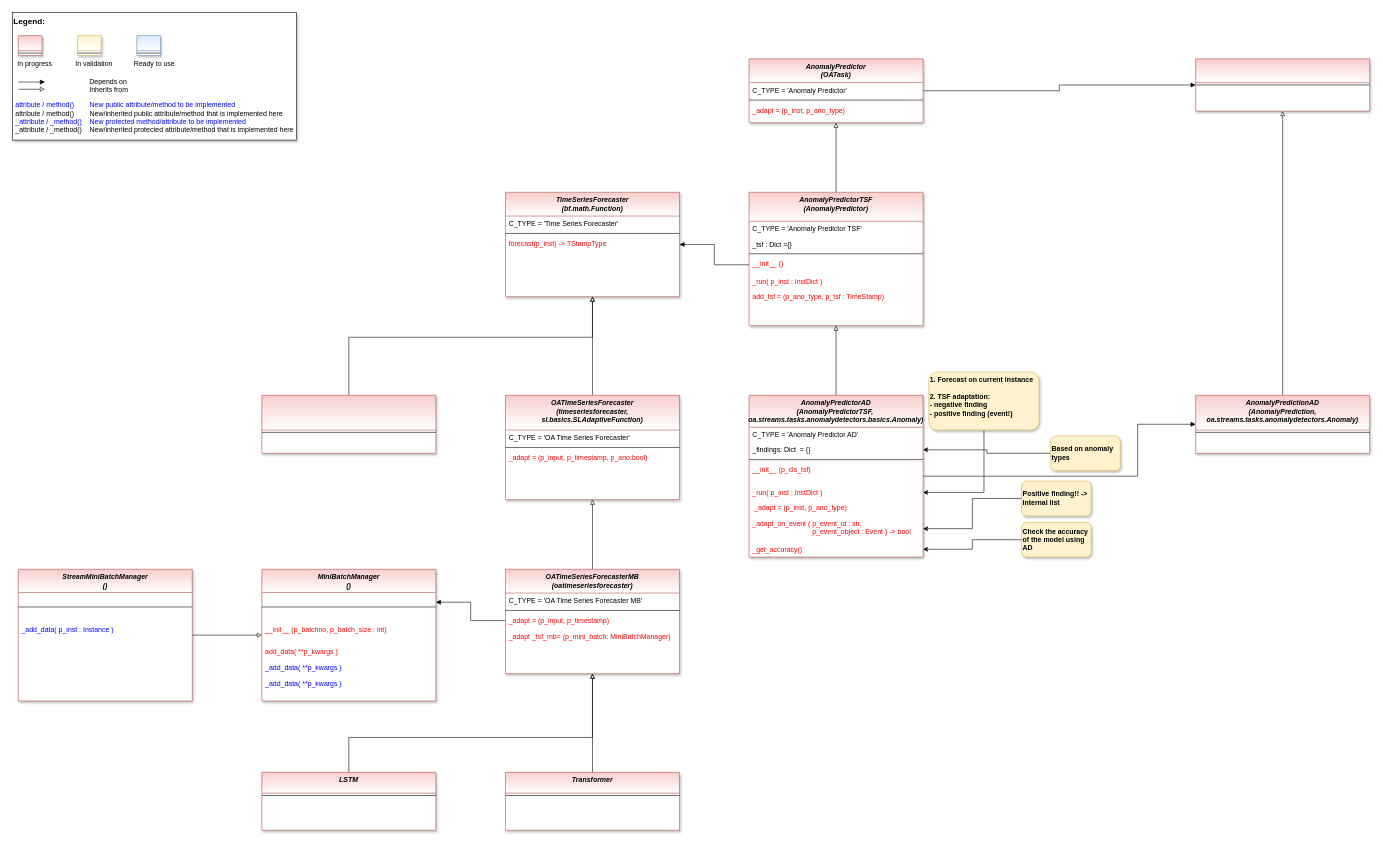
The diagram is 1383 pixels wide and 844 high, and some of its shapes have lost their labels. The shapes that lost their labels are listed below. From the top down, each one's centre as x and y in pixels, then its label:
At [1283,85]: "AnomalyPrediction (bf.events.Event)".
At [349,424]: "ARIMA".
